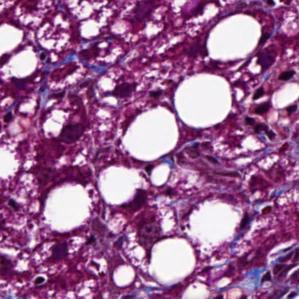inflammation: (247, 40, 298, 98), (36, 56, 98, 96), (260, 238, 299, 293)
